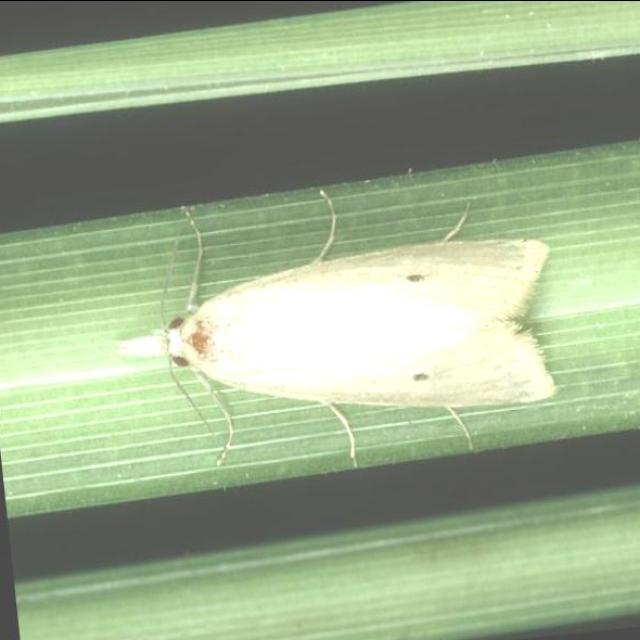stem borer: (120, 189, 555, 465)
